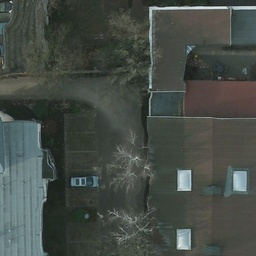car: (71, 174, 100, 189)
